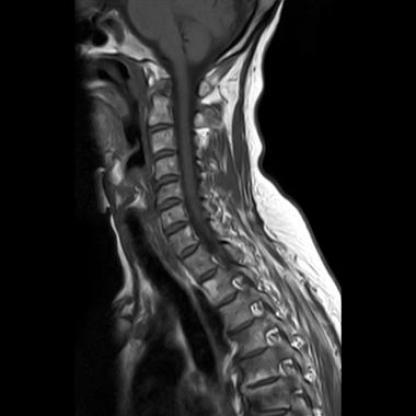Disc Bulgerotation: (153, 195, 187, 213), (161, 217, 191, 236), (151, 173, 182, 189)
